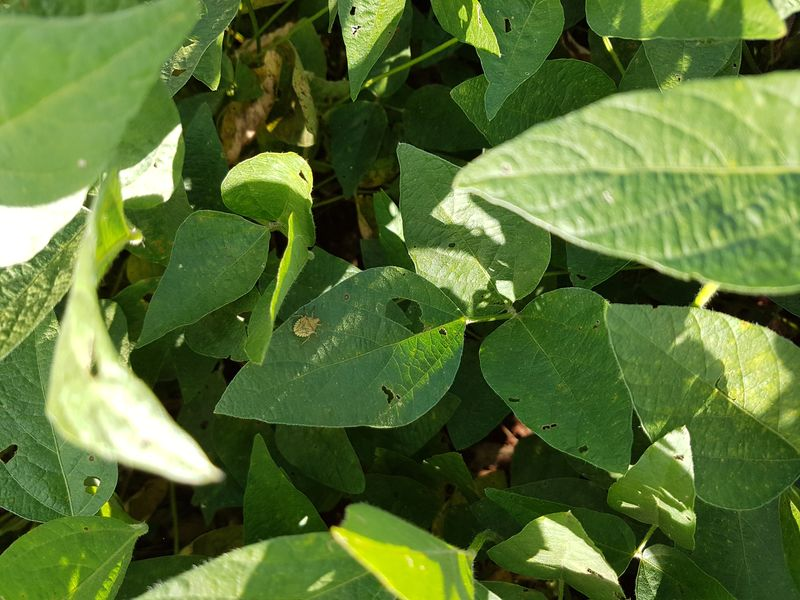Euschistus_heros_ninfa: (283, 303, 328, 348)
